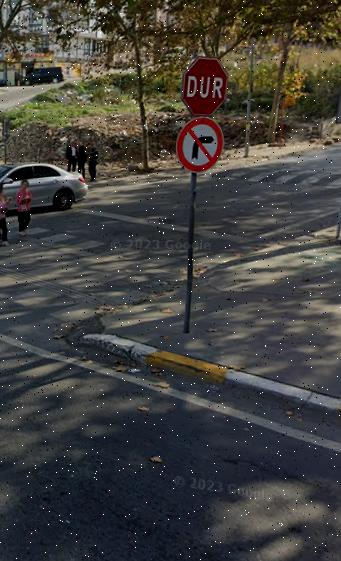rightturnsareforbidden: (178, 125, 223, 166)
stop: (184, 59, 230, 113)
